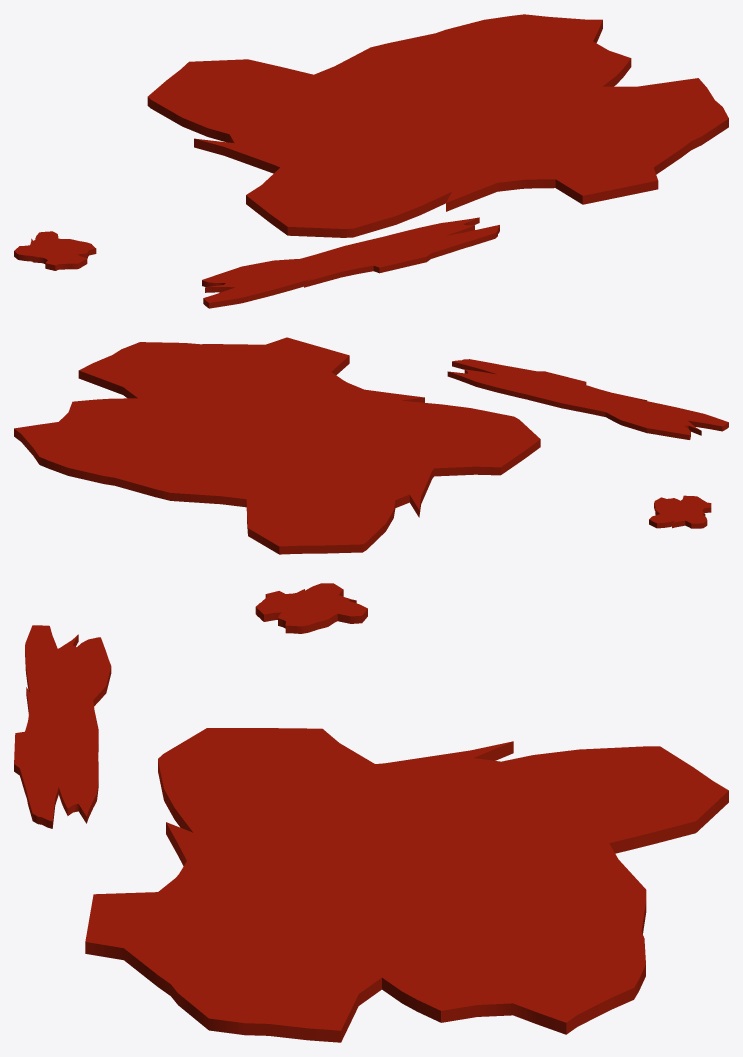
The model's file is 05 Blood.FBX.
The picture shows the model from 3 angles, top to bottom: view 1: azimuth 30°, elevation 25°; view 2: azimuth 150°, elevation 25°; view 3: azimuth 270°, elevation 25°; orthographic projection. The views are drawn at different scales.
Parts seen in each view (by area): view 1: Blood; view 2: Blood; view 3: Blood.
Part boxes in pixels (left/top/right/bottom): Blood: left=14, top=14, right=728, bottom=308; Blood: left=14, top=337, right=728, bottom=554; Blood: left=14, top=583, right=728, bottom=1042.
Size of the model in its own units: 1283 by 26.94 by 858.
